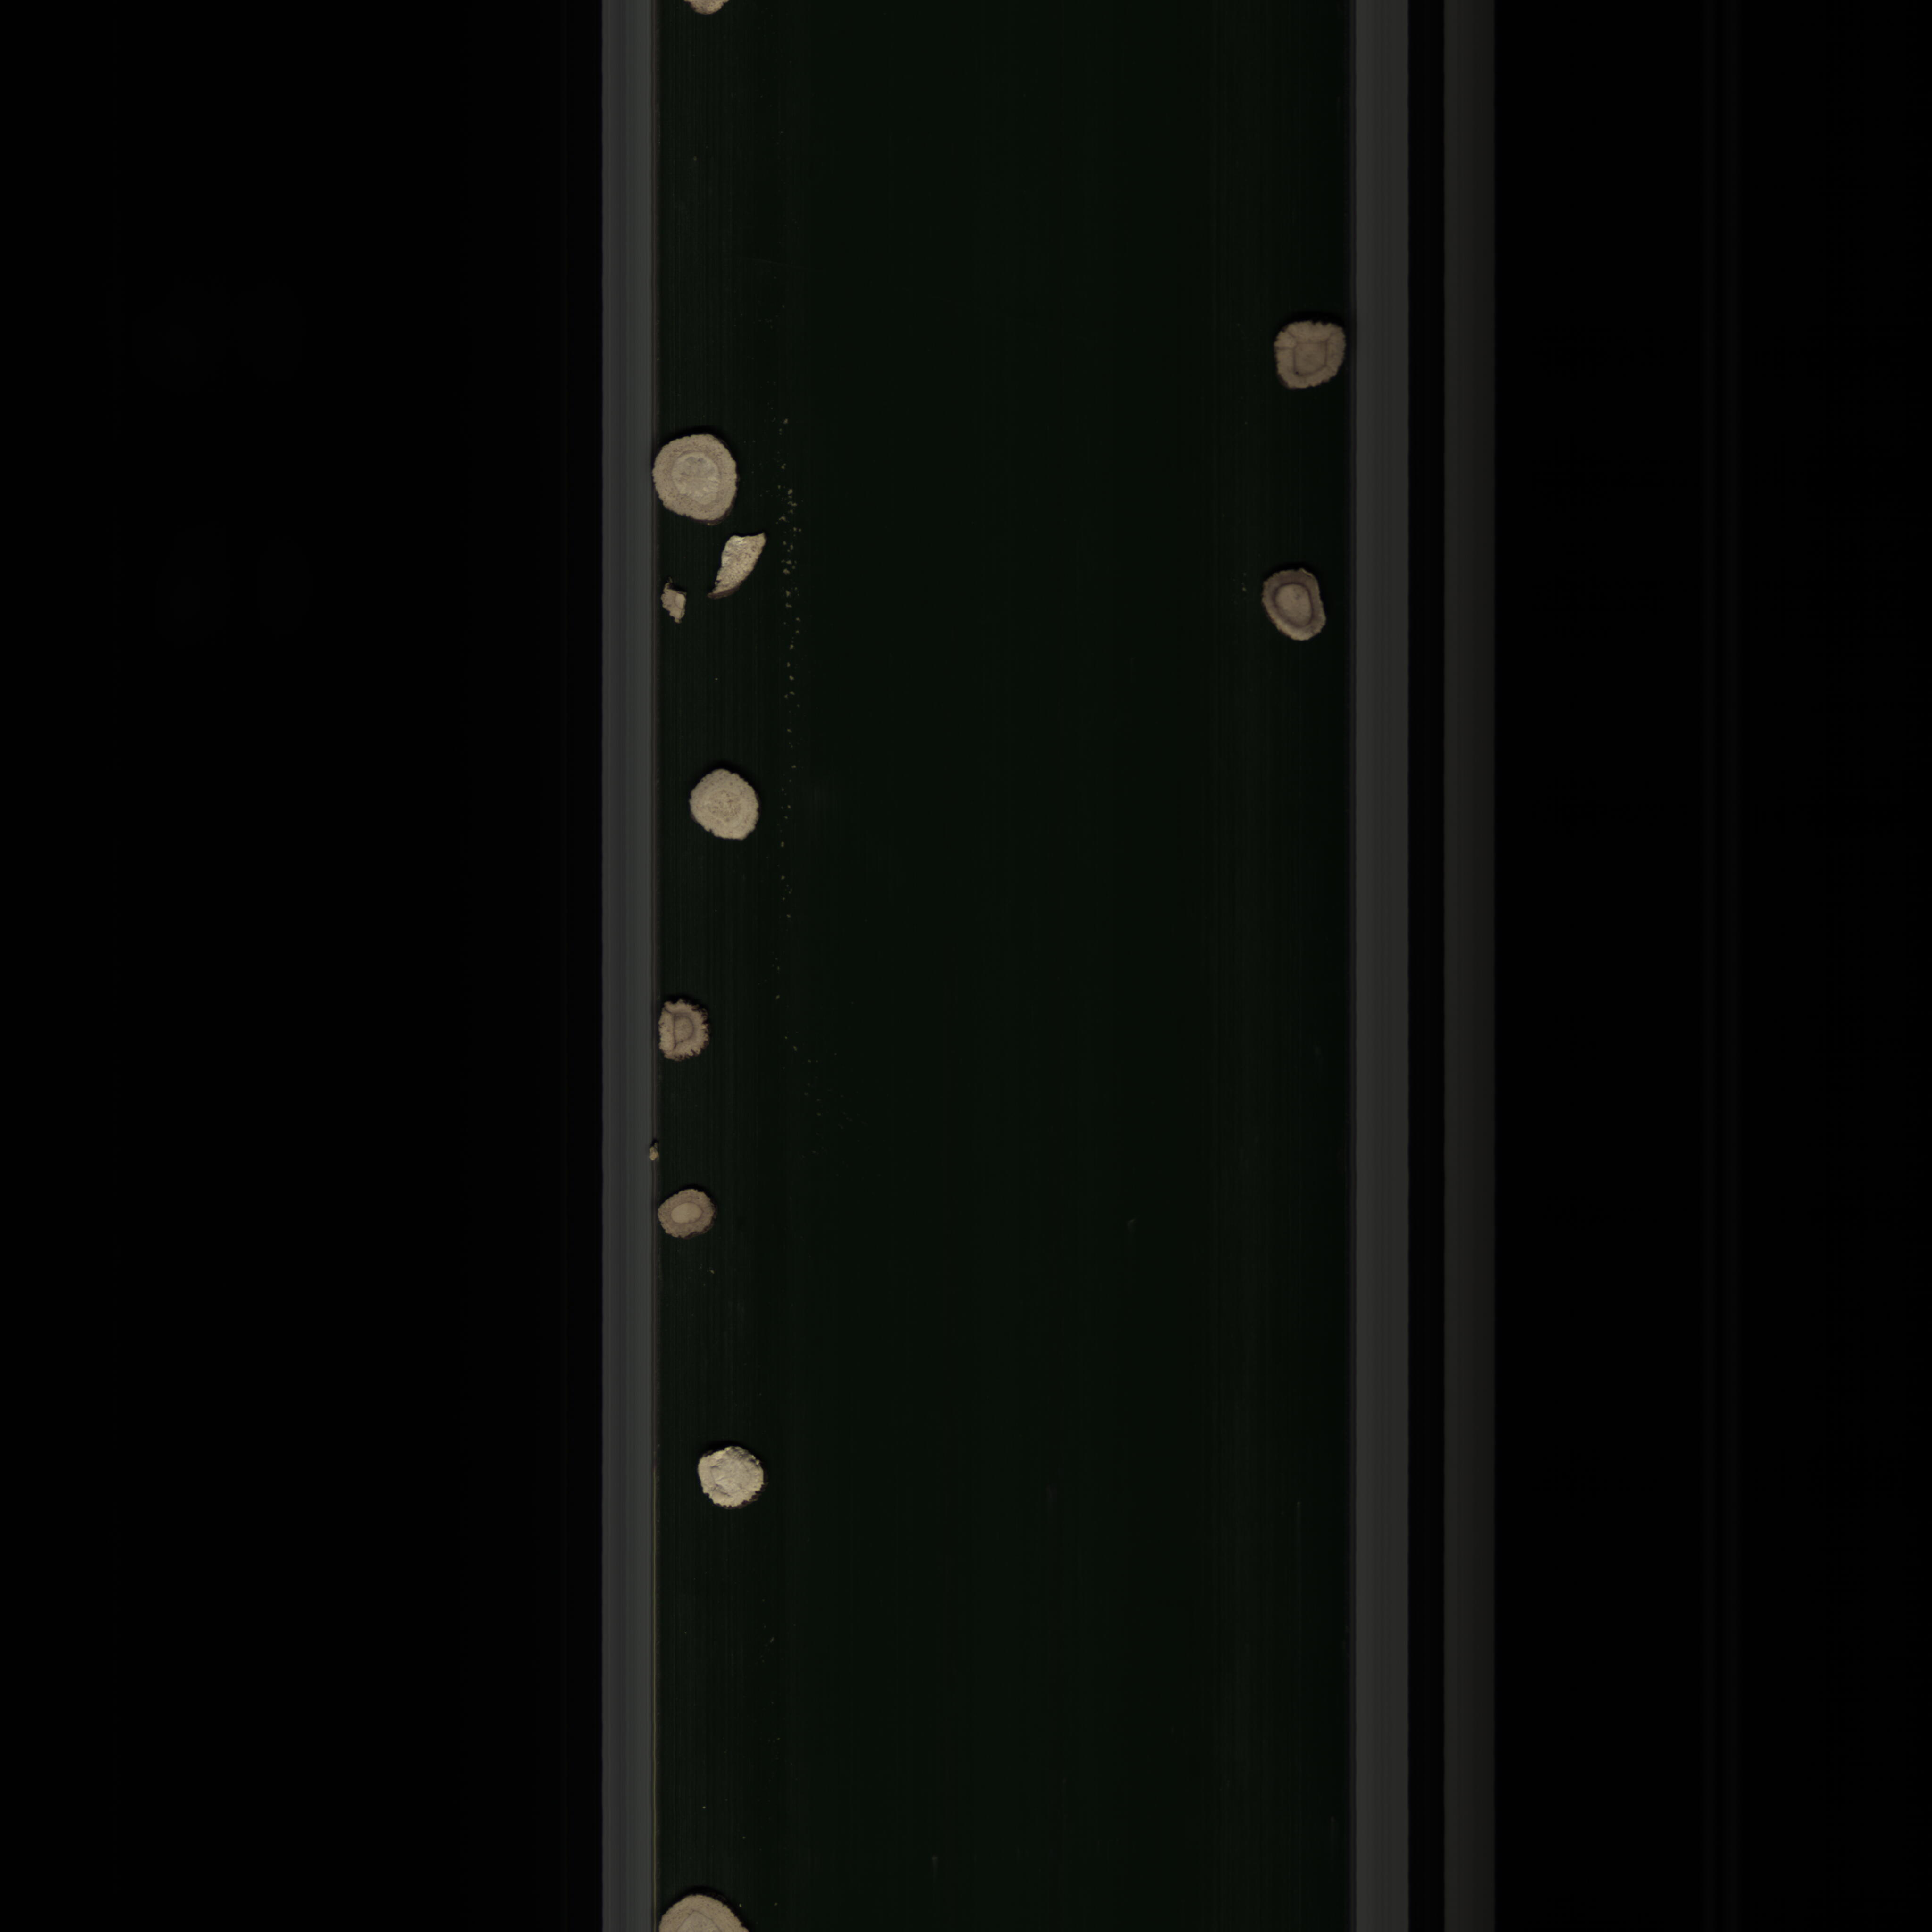debris: (699, 531, 766, 602), (660, 571, 690, 632)
moldy: (1254, 559, 1332, 649), (1263, 315, 1348, 396), (655, 993, 715, 1076), (651, 1185, 718, 1244)
